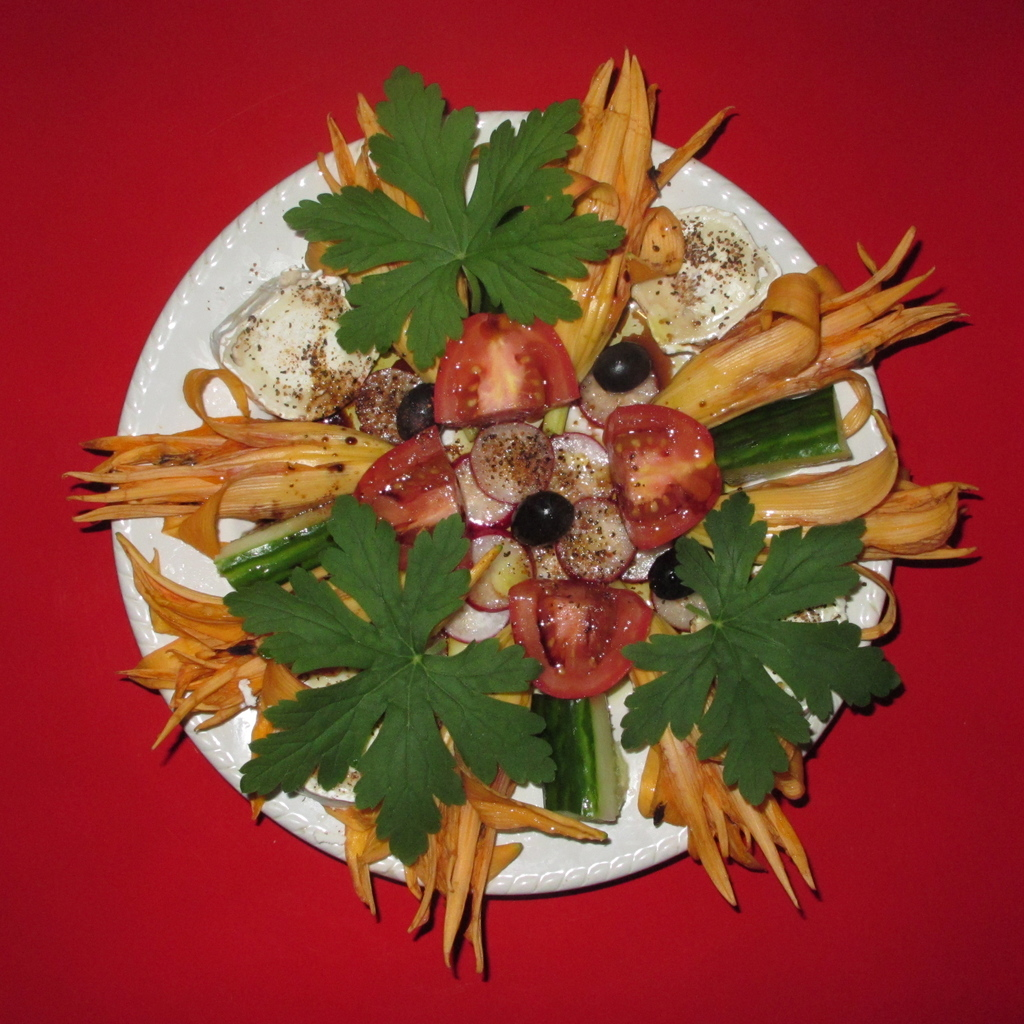salad: (67, 51, 973, 976)
